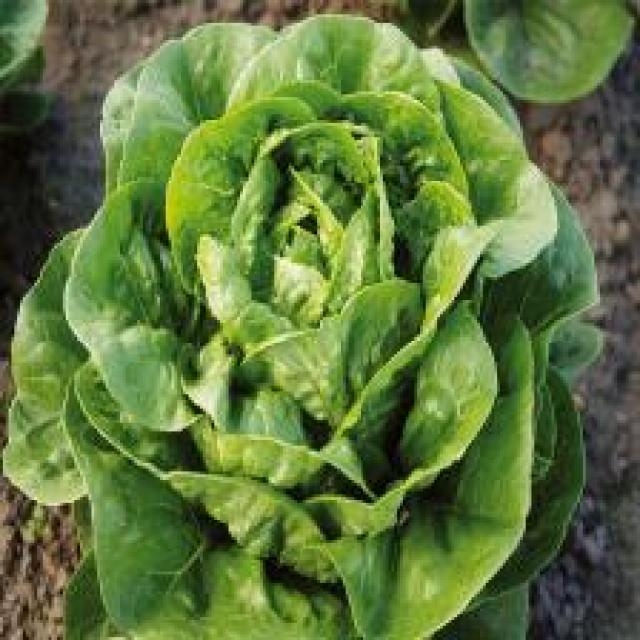Lettuce: (13, 14, 600, 640)
